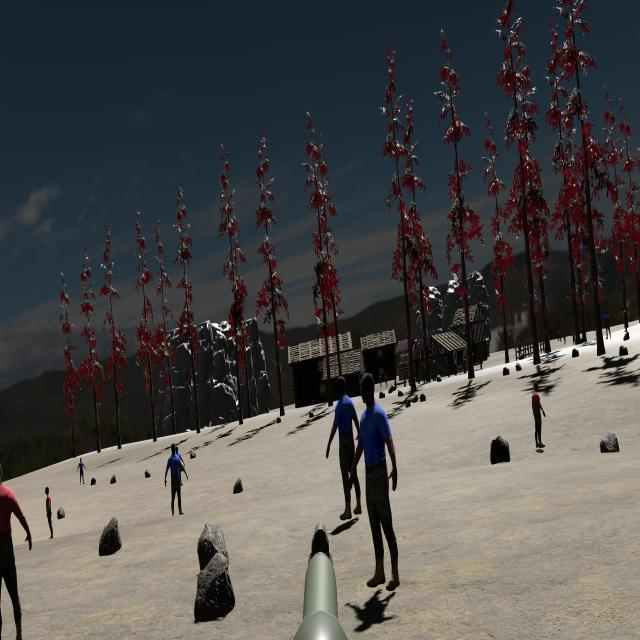Human: (350, 373, 398, 590), (0, 460, 32, 640), (326, 377, 363, 520), (165, 443, 188, 517), (532, 380, 546, 450)
